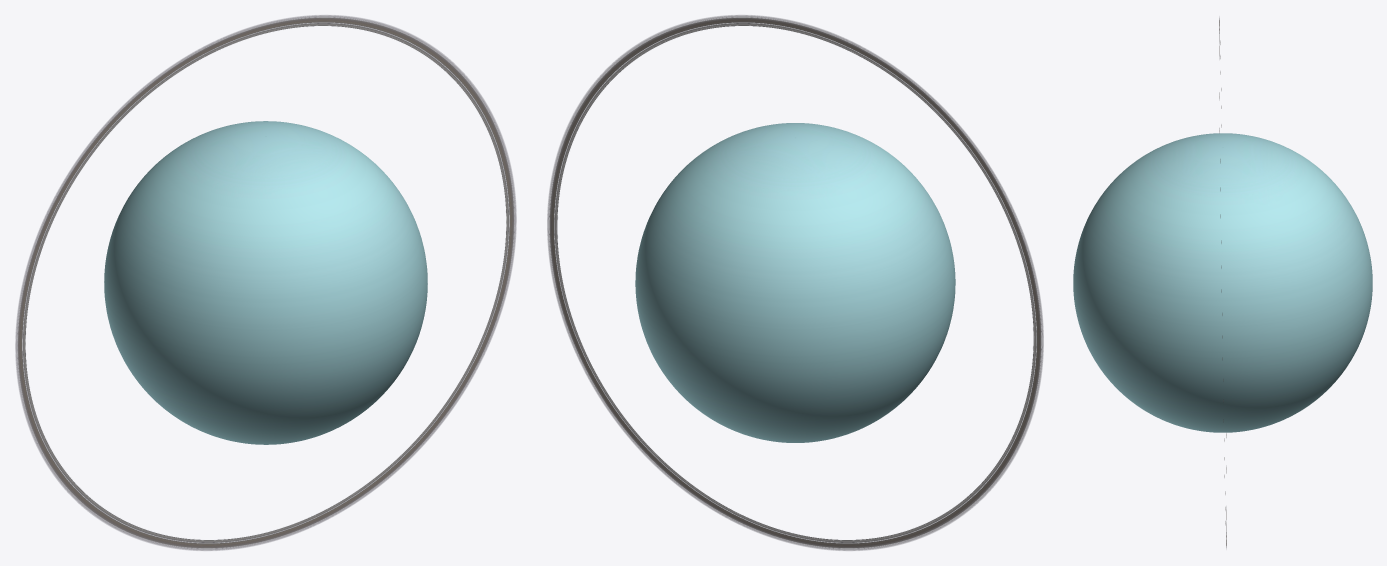
Rendered from uranus-real-8k.glb.
3 renders of one model, left to right at view 1: azimuth 30°, elevation 25°; view 2: azimuth 150°, elevation 25°; view 3: azimuth 270°, elevation 25°, orthographic. The views are drawn at different scales.
Parts seen in each view (by area): view 1: Sphere.001, Circle; view 2: Sphere.001, Circle; view 3: Sphere.001.
Part boxes in pixels (x1=…): Sphere.001: x1=104, y1=121, x2=427, y2=444; Circle: x1=15, y1=15, x2=516, y2=550; Sphere.001: x1=635, y1=123, x2=955, y2=442; Circle: x1=547, y1=15, x2=1043, y2=550; Sphere.001: x1=1073, y1=133, x2=1372, y2=432.
Size of the model in its own units: 1.24 by 1.24 by 0.6902.
Materials: 2 (2 with a texture image).
